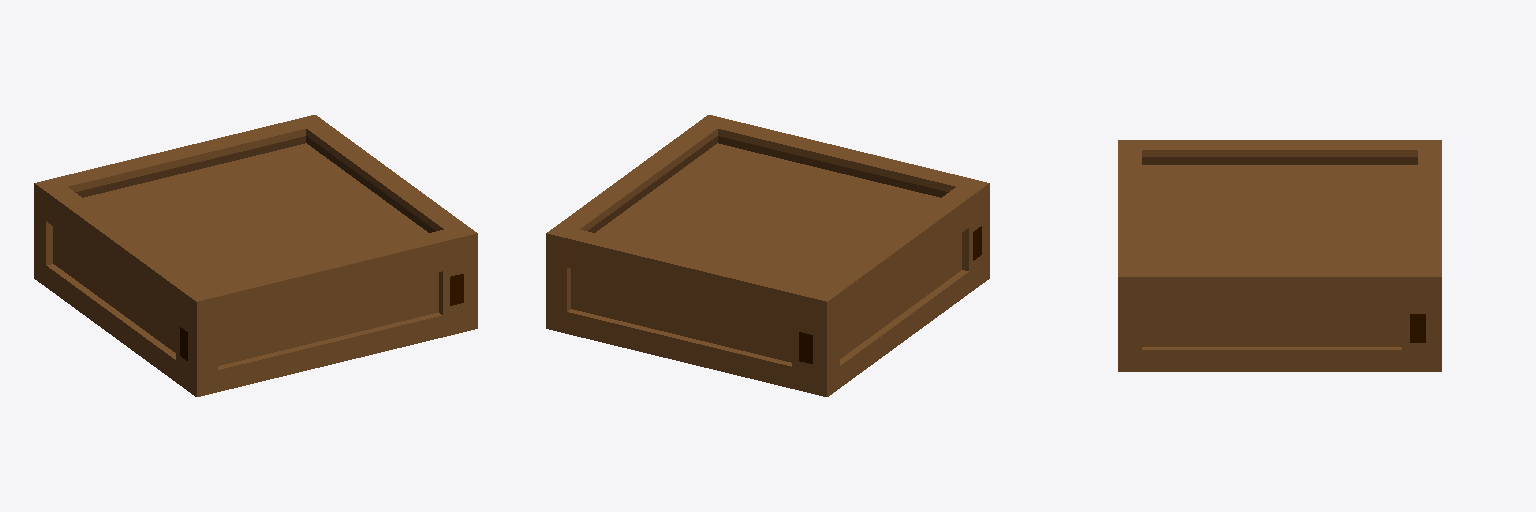
3 views of the same model, side by side, from view 1: azimuth 30°, elevation 25°; view 2: azimuth 150°, elevation 25°; view 3: azimuth 270°, elevation 25° (orthographic).
Parts seen in each view (by area): view 1: object 1; view 2: object 1; view 3: object 1.
Part boxes in pixels (x1,y1,x2,y2): object 1: (34,115,477,396); object 1: (546,115,989,396); object 1: (1118,140,1441,371).
Bounding box in the file's own units: 4 × 1.3 × 4.
1 materials, 1 textured.